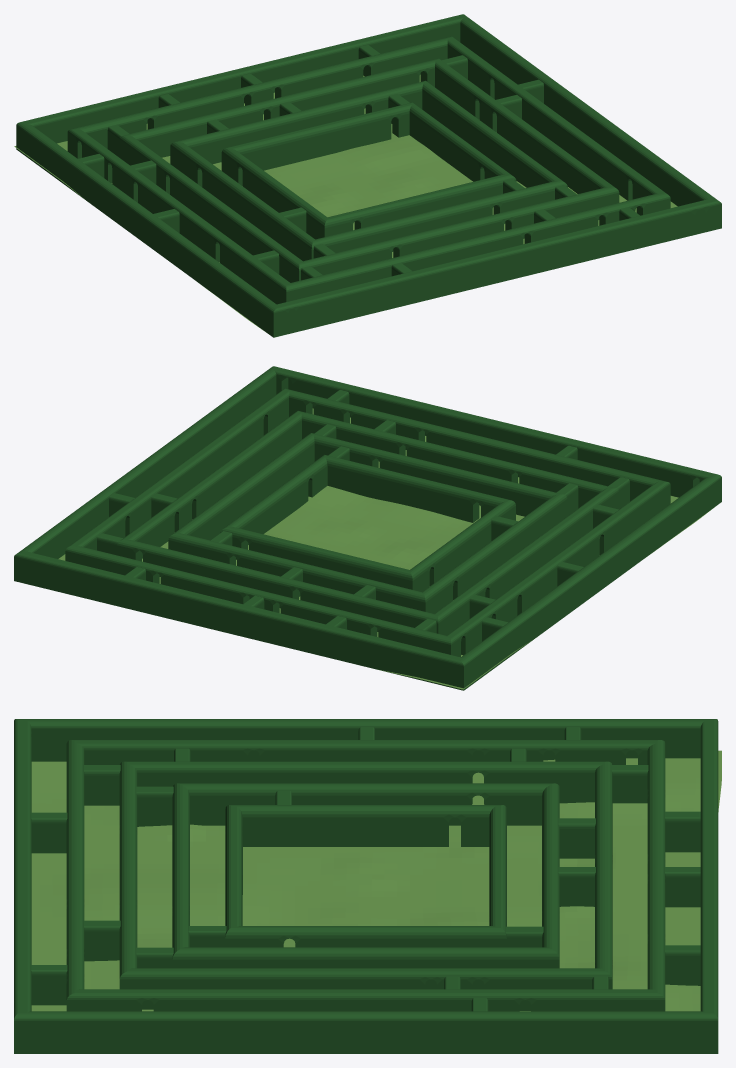
Rendered from Maze 2.fbx.
3 renders of one model, top to bottom at view 1: azimuth 30°, elevation 25°; view 2: azimuth 150°, elevation 25°; view 3: azimuth 270°, elevation 25°, orthographic. The views are drawn at different scales.
Visible parts, largest first — view 1: Walls 1.002, Walls 2.002, Walls 3.002, Walls 4.003, Walls 5.002, Floor.003; view 2: Walls 1.002, Walls 2.002, Walls 3.002, Walls 4.003, Walls 5.002, Floor.003; view 3: Floor.003, Walls 1.002, Walls 2.002, Walls 3.002, Walls 4.003, Walls 5.002, Bush Blocker.030, Bush Blocker.039, Bush Blocker.035, Bush Blocker.044, Bush Blocker.031, Bush Blocker.029 (+8 smaller).
Boxes of the visible parts, box(x1,y1,x2,y2) form: Walls 1.002: box(16, 14, 721, 337); Walls 2.002: box(67, 36, 670, 304); Walls 3.002: box(119, 58, 619, 282); Walls 4.003: box(170, 80, 567, 261); Walls 5.002: box(221, 102, 516, 239); Floor.003: box(14, 74, 677, 331); Walls 1.002: box(14, 366, 721, 690); Walls 2.002: box(65, 388, 670, 657); Walls 3.002: box(117, 411, 618, 635); Walls 4.003: box(168, 433, 567, 613); Walls 5.002: box(220, 455, 515, 591); Floor.003: box(58, 408, 714, 689); Floor.003: box(31, 750, 721, 1011); Walls 1.002: box(14, 719, 718, 1053); Walls 2.002: box(66, 740, 665, 1011); Walls 3.002: box(119, 761, 612, 1010); Walls 4.003: box(172, 783, 559, 989); Walls 5.002: box(225, 805, 506, 947); Bush Blocker.030: box(31, 812, 67, 853); Bush Blocker.039: box(665, 811, 700, 852); Bush Blocker.035: box(84, 920, 120, 961); Bush Blocker.044: box(558, 818, 595, 858); Bush Blocker.031: box(84, 765, 120, 805); Bush Blocker.029: box(31, 965, 67, 1005).
Bounding box in the file's own units: 6009 × 368 × 5992.
